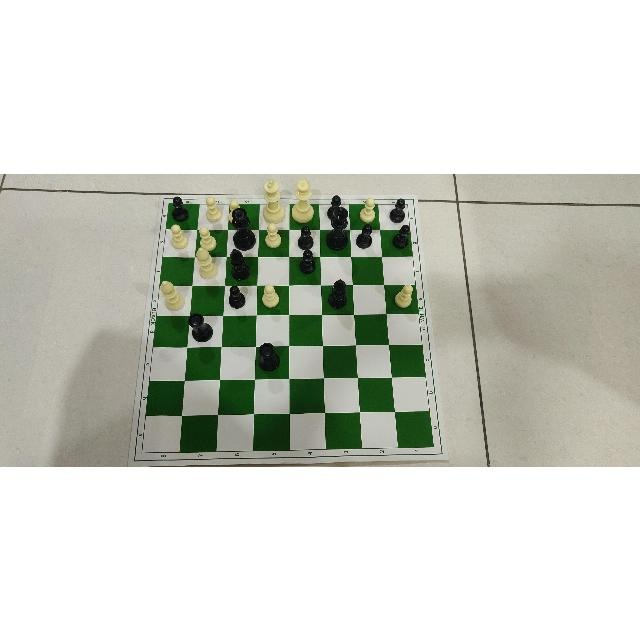black-bishop: (228, 247, 251, 281), (327, 277, 348, 310)
black-king: (326, 206, 349, 250)
black-pawn: (170, 195, 189, 222), (354, 222, 373, 249), (326, 193, 344, 221), (393, 223, 411, 250), (388, 195, 405, 222), (228, 284, 246, 309), (297, 225, 315, 250), (299, 248, 317, 273)
black-queen: (231, 206, 256, 250)
black-rook: (187, 311, 213, 343), (257, 340, 280, 371)
white-bishop: (195, 245, 219, 280), (159, 279, 184, 310)
white-king: (262, 177, 286, 223)
white-pawn: (393, 283, 414, 309), (264, 221, 283, 249), (198, 225, 218, 251), (262, 282, 282, 307), (169, 223, 188, 249), (204, 194, 222, 221), (358, 195, 375, 222), (227, 199, 244, 223)
white-queen: (290, 177, 315, 223)
